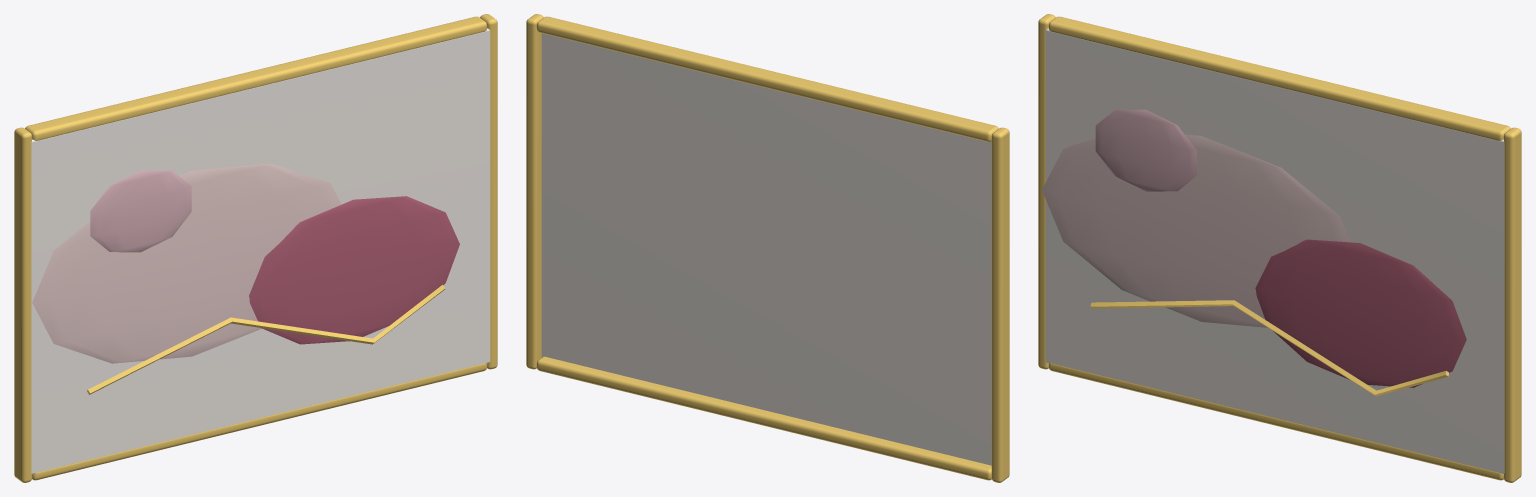
File: art_canvas_large.glb
The picture shows the model from 3 angles, left to right: view 1: azimuth 30°, elevation 25°; view 2: azimuth 150°, elevation 25°; view 3: azimuth 330°, elevation 25°; orthographic projection.
Visible parts, largest first — view 1: art_canvas_large; view 2: art_canvas_large; view 3: art_canvas_large.
Part boxes in pixels (box(x1,y1,x2,y2)): art_canvas_large: box(14, 14, 497, 482); art_canvas_large: box(526, 14, 1009, 482); art_canvas_large: box(1038, 14, 1521, 482).
Size of the model in its own units: 1.34 by 0.94 by 0.083.
